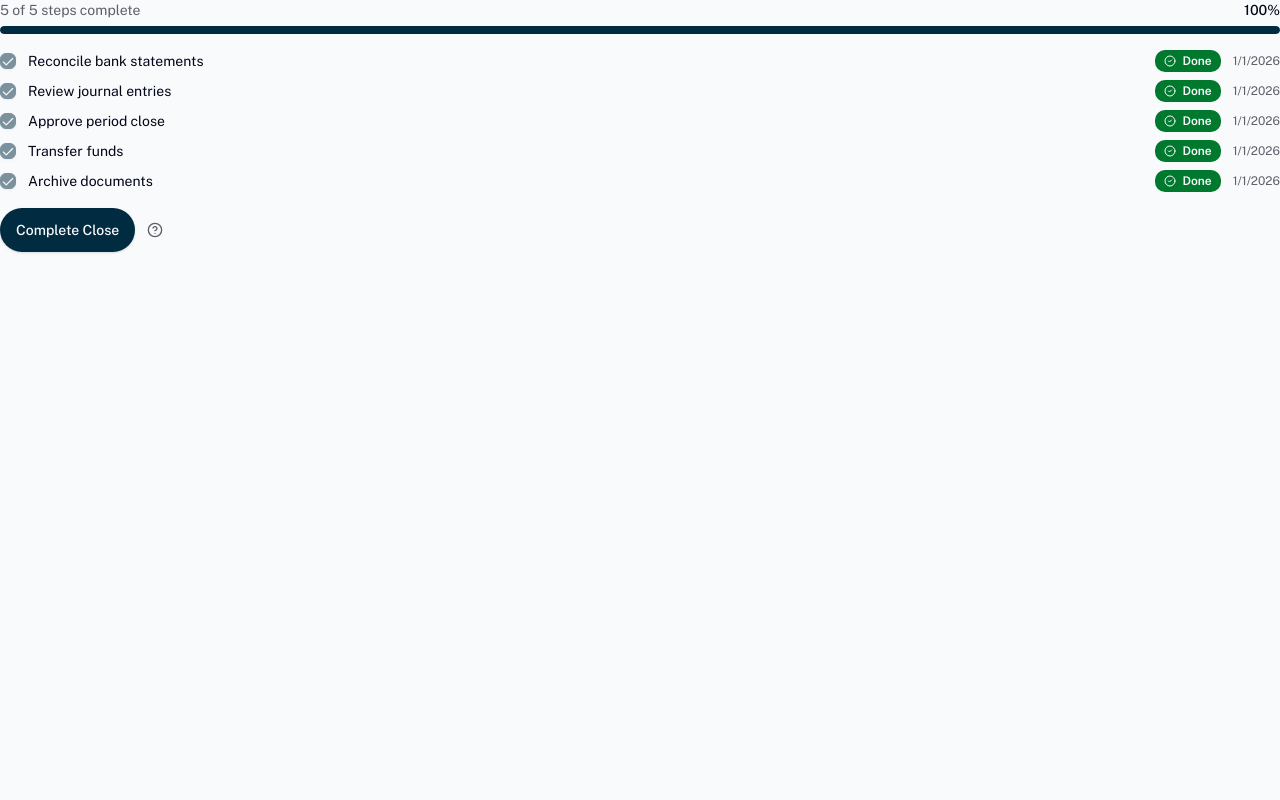
CloseChecklist › shows error when complete fails
Step 1. Click the button "Complete Close" → click(68, 230), box 0,208 -> 135,252
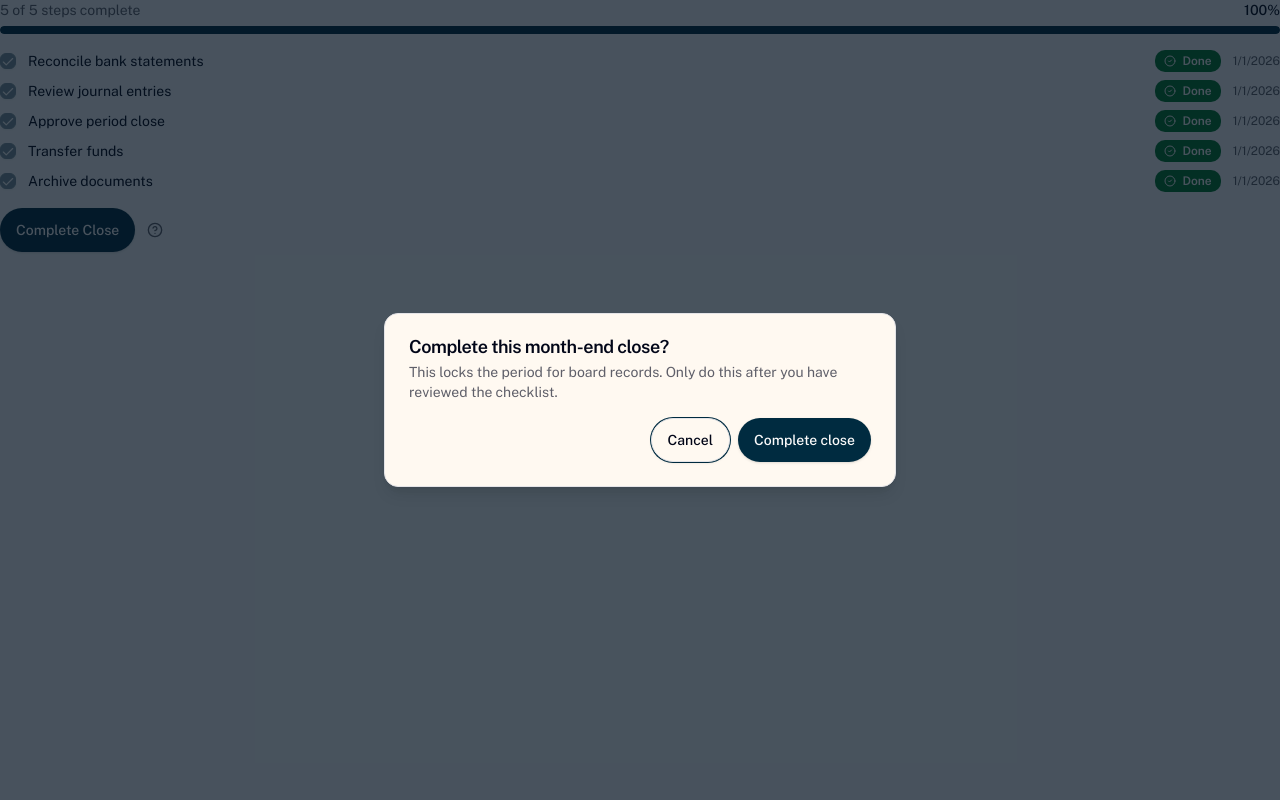
Step 2. Click the button "Complete close" → click(805, 440), box 738,418 -> 871,462
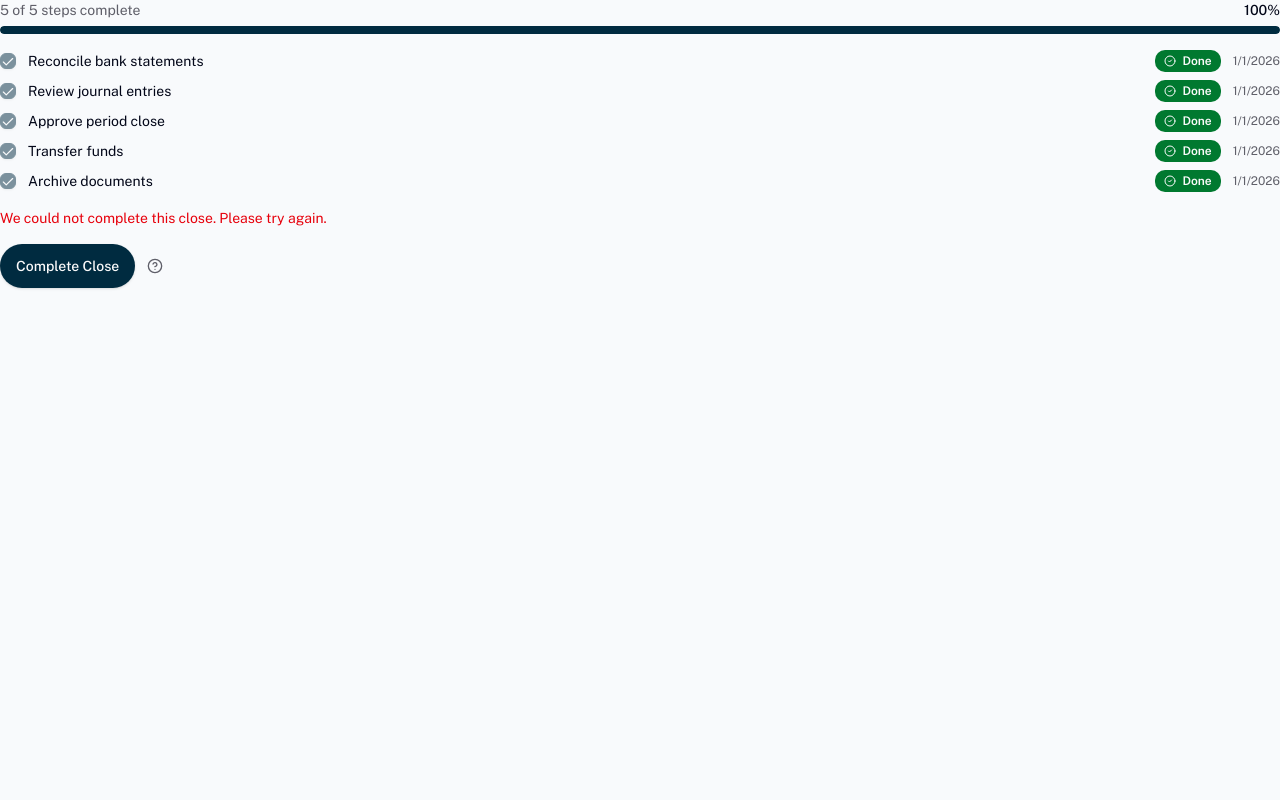
Check: the text "We could not complete this close. Please try again." is shown, box 0,210 -> 327,226
